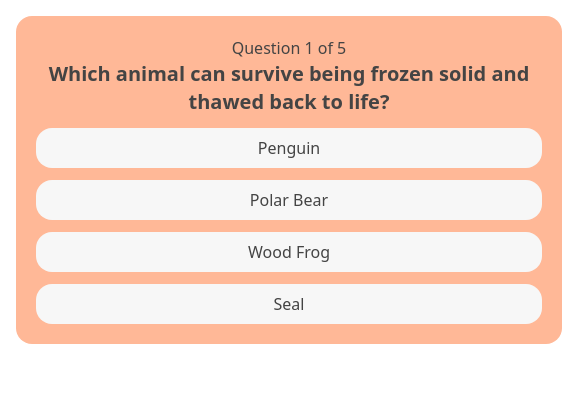
Test: That the next button works properly › tests that the next button appears once the user has chosen an answer
This screenshot has width=579, height=413.
Expected: the button "next" is not shown
Click the button "Penguin" at [289, 148], box [36,128,542,168]
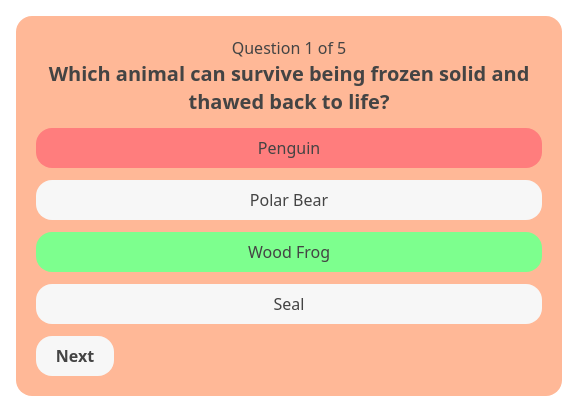
Result: the button "Next" is shown at [36,336,114,376]
